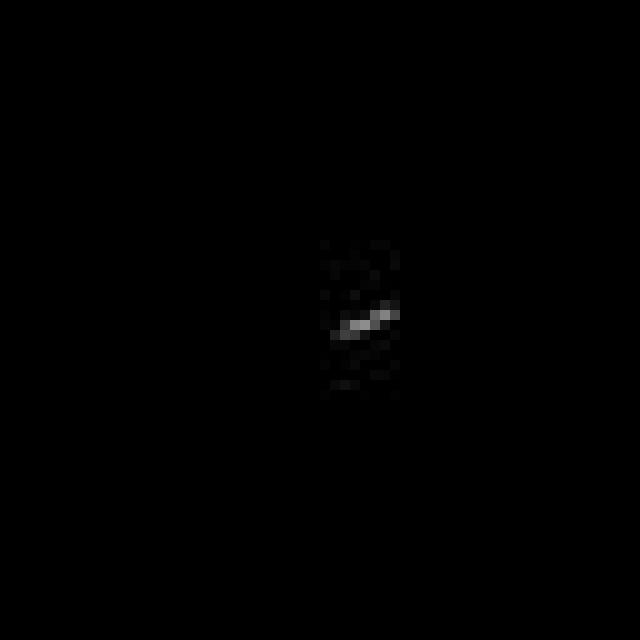1 -one-: (331, 300, 404, 352)
